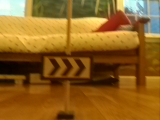right: (41, 55, 94, 79)
